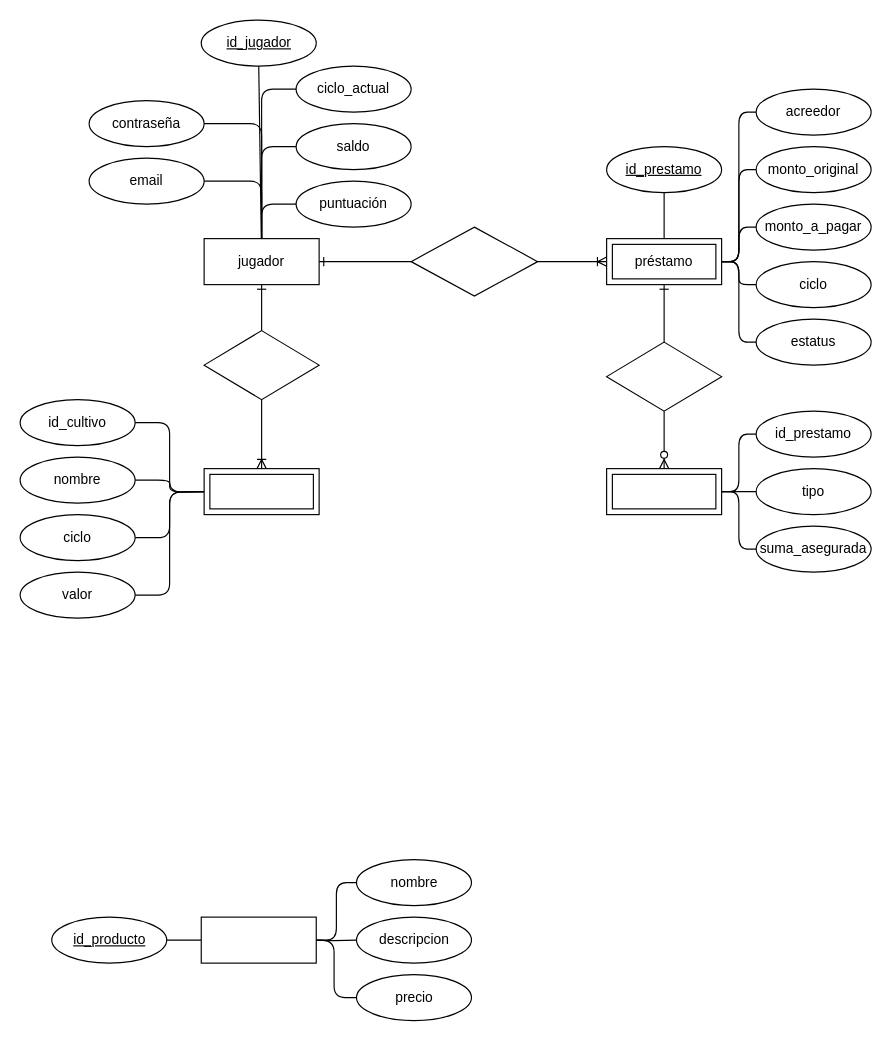
Some shapes in this 891 by 1041 pixel diagram are drawn without their labels. The centre of each missing label's shape, as x and y in pixels:
"cultivo" belongs at point 261,491.
"incluye" belongs at point 663,376.
"insumo" belongs at point 258,939.
"obtiene" belongs at point 474,261.
"seguro" belongs at point 663,491.
"siembra" belongs at point 261,364.
